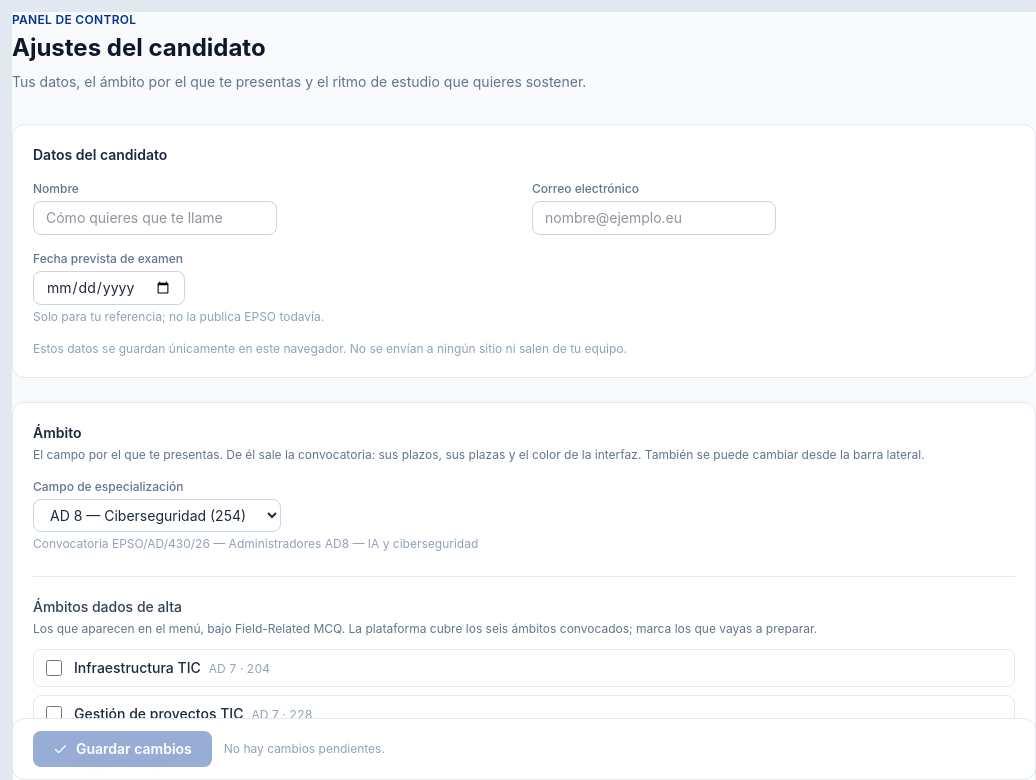
Test: confirmación de cambios › descartar devuelve el formulario a lo guardado
In the field labelled "Nombre": (155, 218) [33,201,277,235], type "Escrito por error"
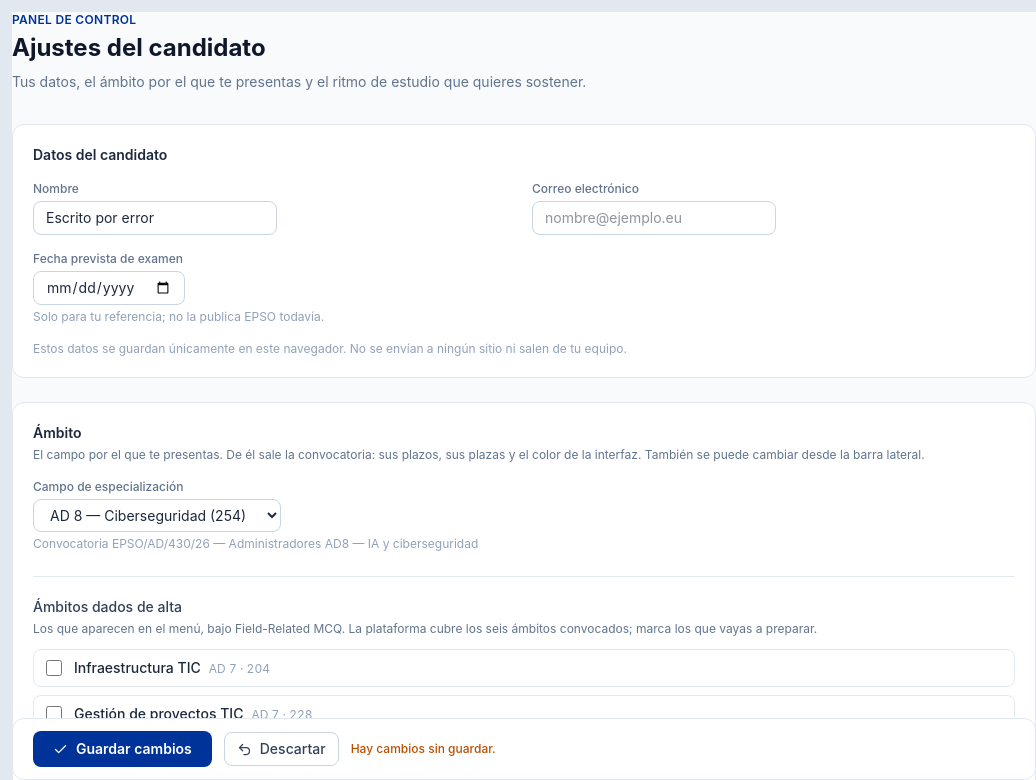
Click the button "Descartar": (281, 749) [224,732,339,766]
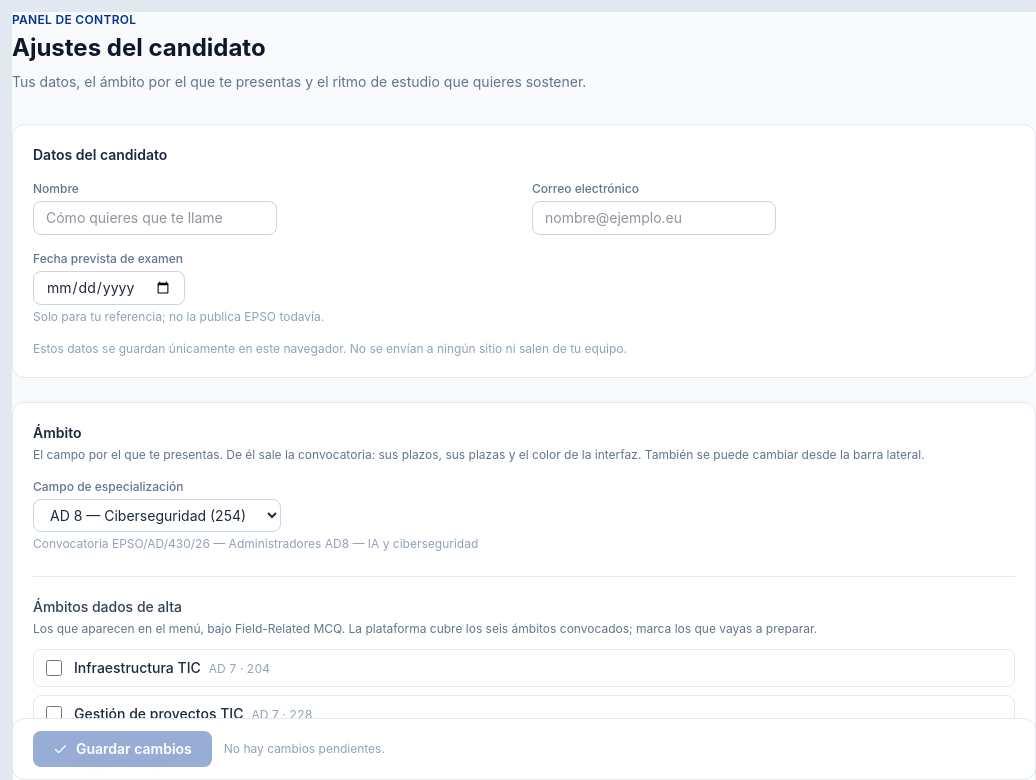
Check: the field labelled "Nombre" is empty, box [33,201,277,235]
Check: the text "No hay cambios pendientes." is shown, box [224,741,385,757]
